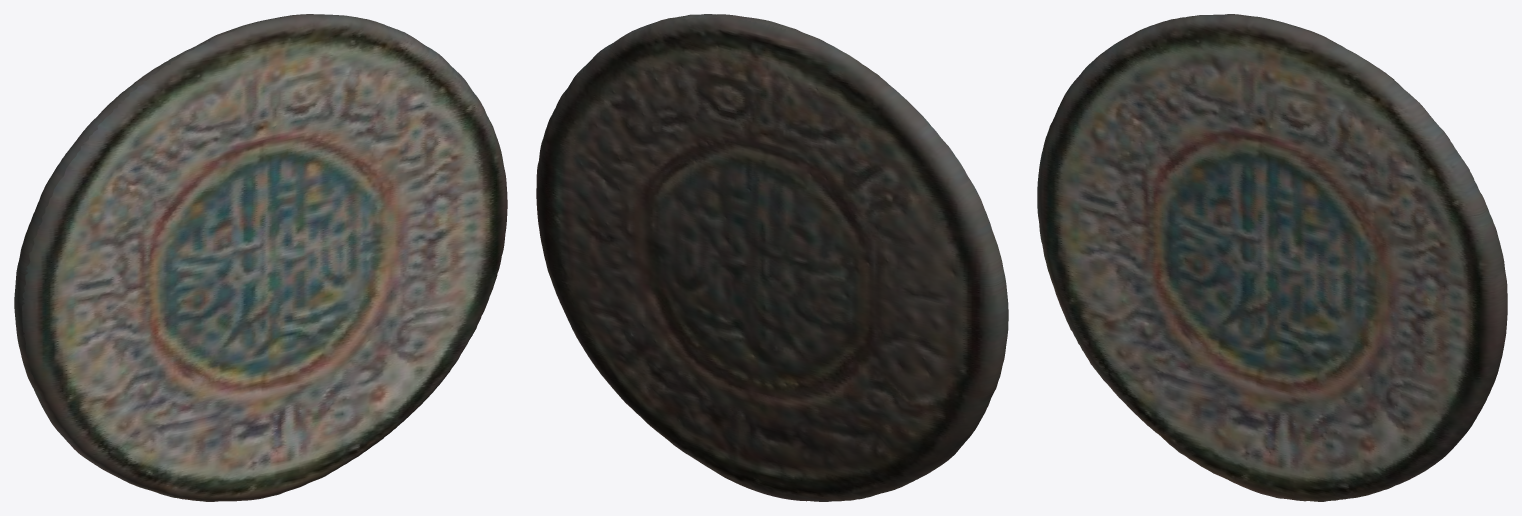
File: kfl-2293.glb
3 renders of one model, left to right at view 1: azimuth 30°, elevation 25°; view 2: azimuth 150°, elevation 25°; view 3: azimuth 330°, elevation 25°, orthographic.
Visible parts, largest first — view 1: geometry_0; view 2: geometry_0; view 3: geometry_0.
Boxes of the visible parts, x1=… form: geometry_0: x1=14, y1=14, x2=507, y2=501; geometry_0: x1=536, y1=14, x2=1008, y2=501; geometry_0: x1=1037, y1=14, x2=1507, y2=501.
Size of the model in its own units: 0.9957 by 0.9426 by 0.1169.
Materials: 1 (1 with a texture image).
